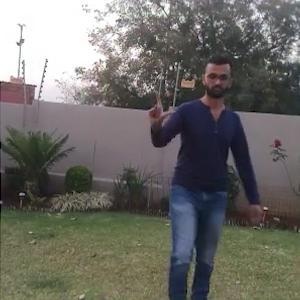land_hand: (142, 85, 177, 123)
